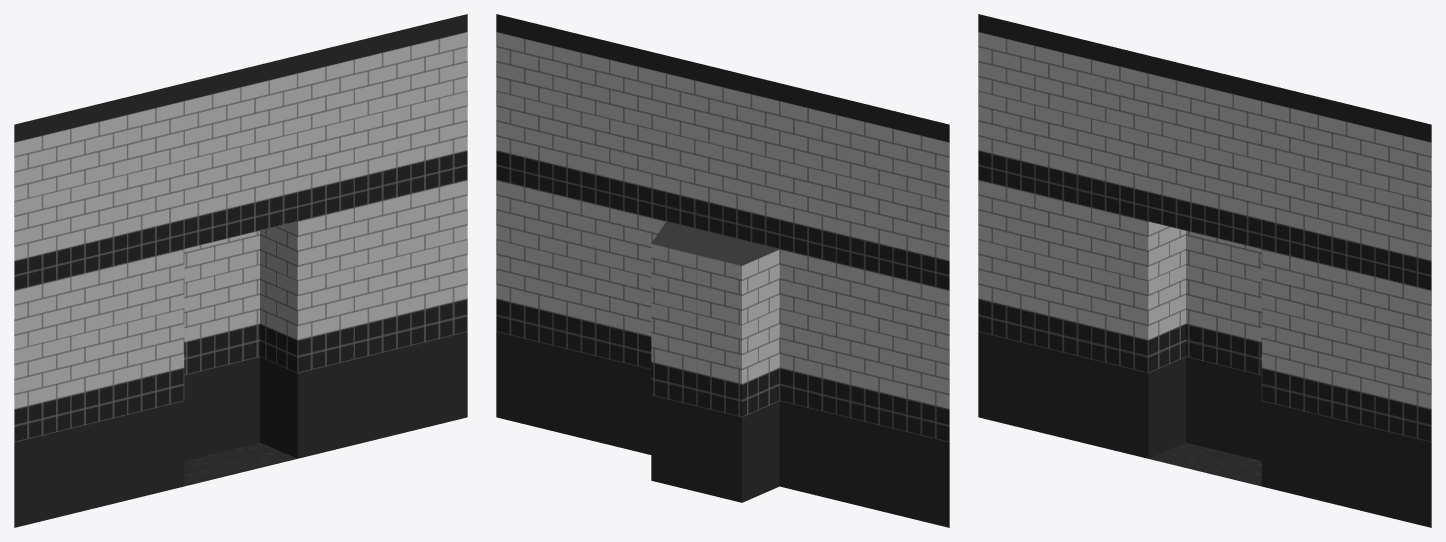
File: SW_ENV_StationTunnel_Wall_A_02.fbx
3 renders of one model, left to right at view 1: azimuth 30°, elevation 25°; view 2: azimuth 150°, elevation 25°; view 3: azimuth 330°, elevation 25°, orthographic.
Parts seen in each view (by area): view 1: SW_ENV_StationTunnel_Wall_A_02; view 2: SW_ENV_StationTunnel_Wall_A_02; view 3: SW_ENV_StationTunnel_Wall_A_02.
Part boxes in pixels (x1,y1,x2,y2): SW_ENV_StationTunnel_Wall_A_02: (14,14,467,527); SW_ENV_StationTunnel_Wall_A_02: (496,14,949,527); SW_ENV_StationTunnel_Wall_A_02: (978,14,1431,527).
Bounding box in the file's own units: 500 × 425 × 50.
